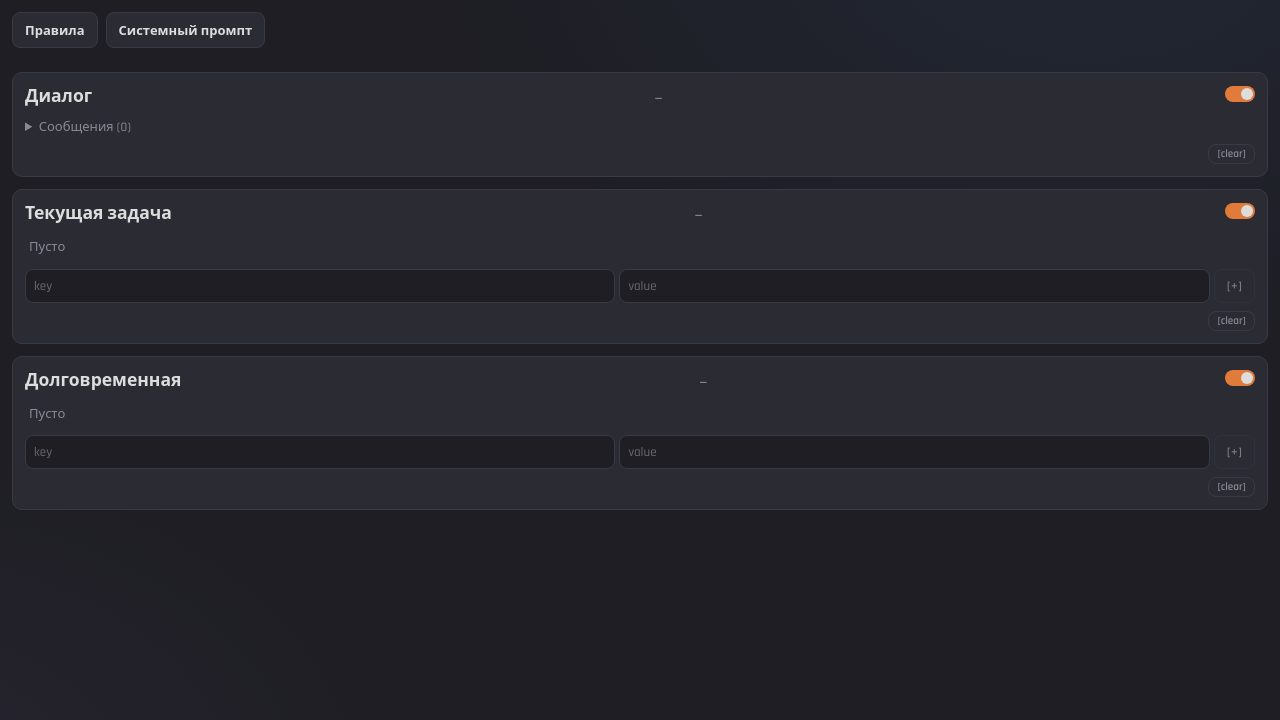
Test: MemoryTab — модалки «Правила» и «Системный промпт» › «Системный промпт» — textarea с value из config
Click the button "Системный промпт" at coordinates (185, 30), box [106,12,265,48]
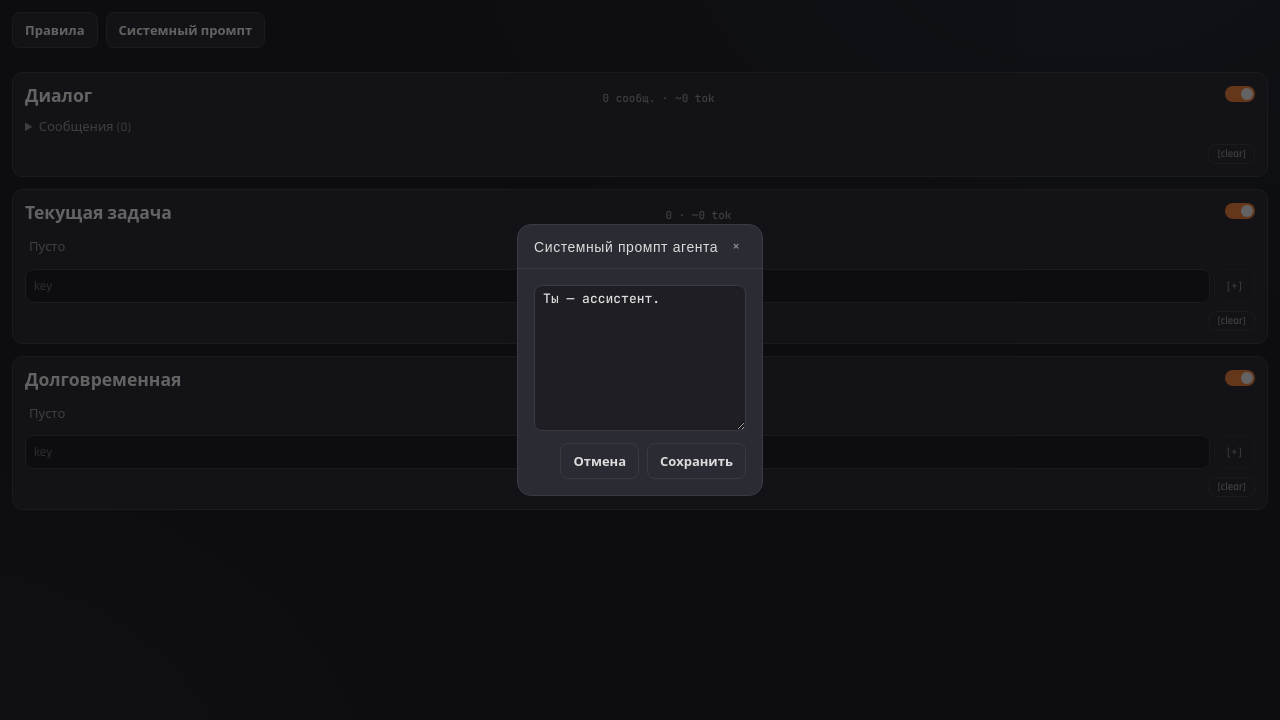
Check: the text box holds "Ты — ассистент.", box [534,285,746,431]
